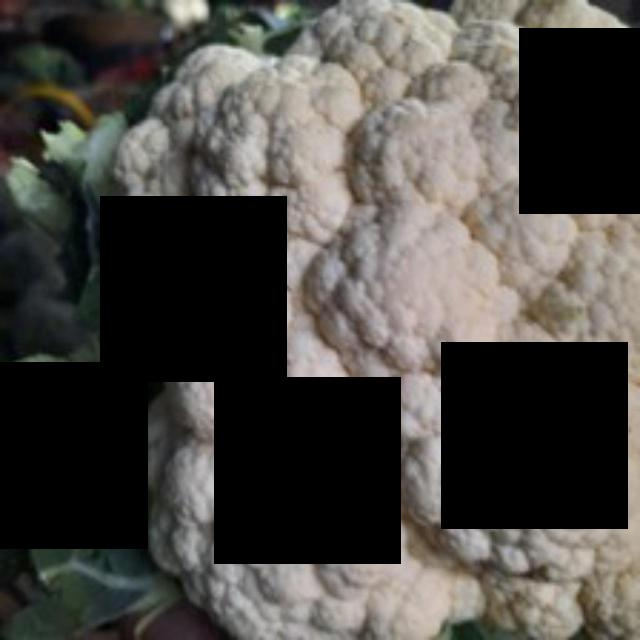cauliflower: (100, 0, 637, 637)
